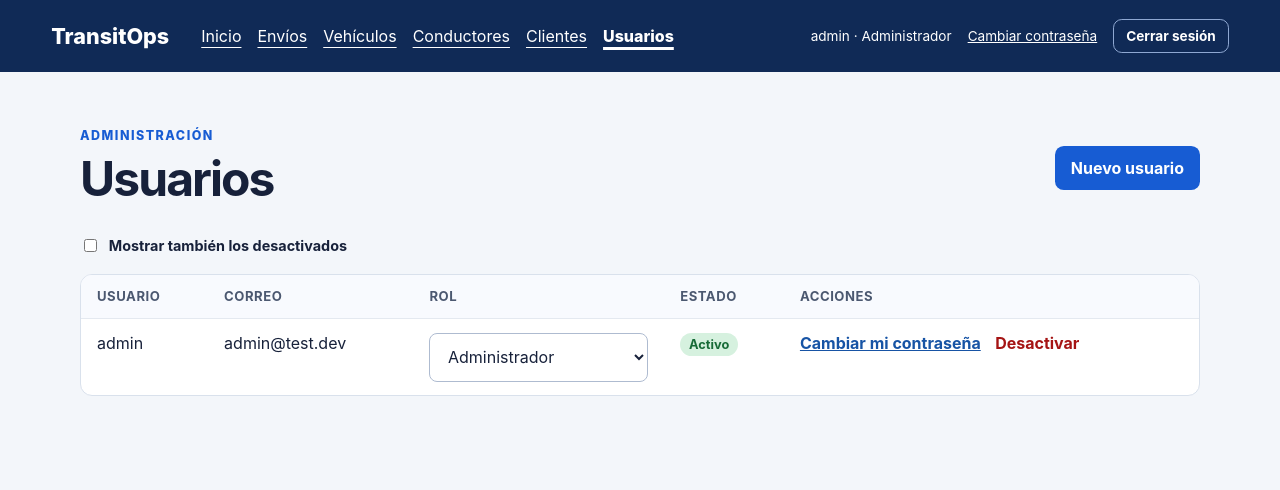
administración de usuarios › shows administration to admins and lists inactive users on request
Expected: the heading "Usuarios" is shown, left=80, top=149, right=274, bottom=208
Expected: the text "inactive" is not shown
Click the checkbox labelled "Mostrar también los desactivados". click: (90, 245)
box: left=84, top=239, right=97, bottom=252
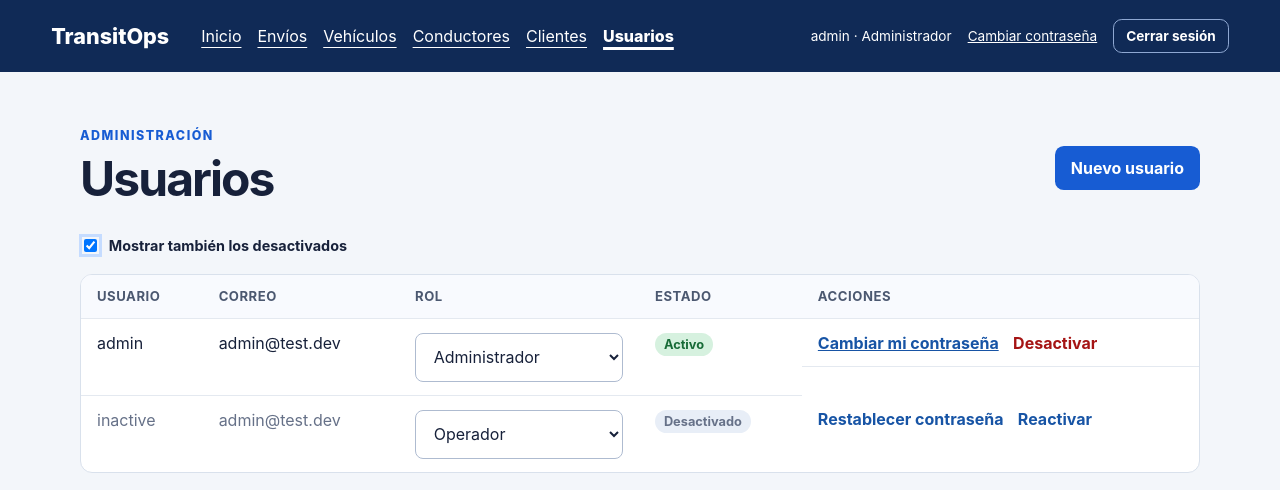
Result: the text "inactive" is shown at left=81, top=396, right=203, bottom=472
